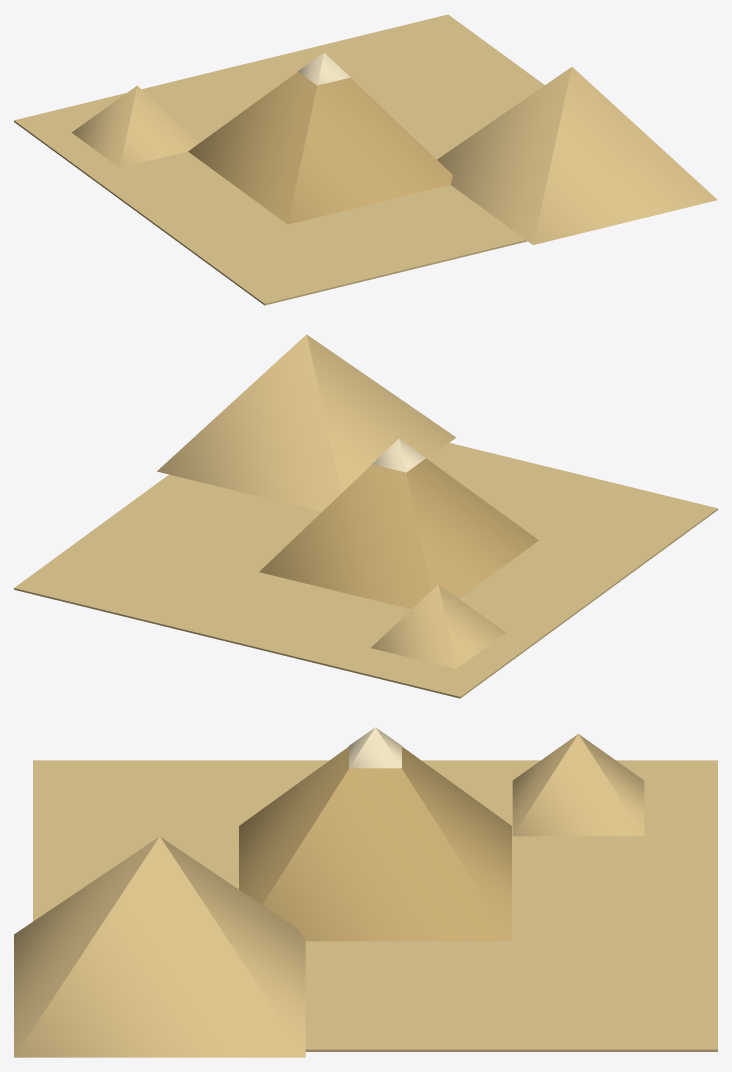
3 views of the same model, one above another, from view 1: azimuth 30°, elevation 25°; view 2: azimuth 150°, elevation 25°; view 3: azimuth 270°, elevation 25° (orthographic). The views are drawn at different scales.
Size of the model in its own units: 555 by 141 by 555.
